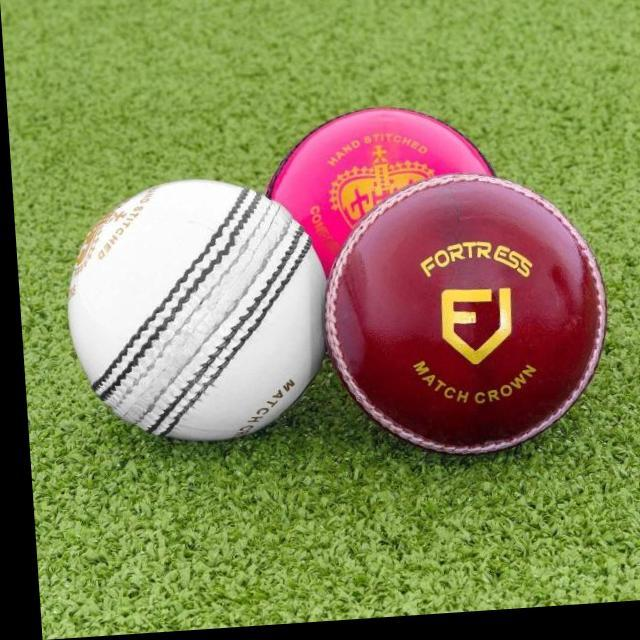cricket ball: (64, 183, 324, 445)
